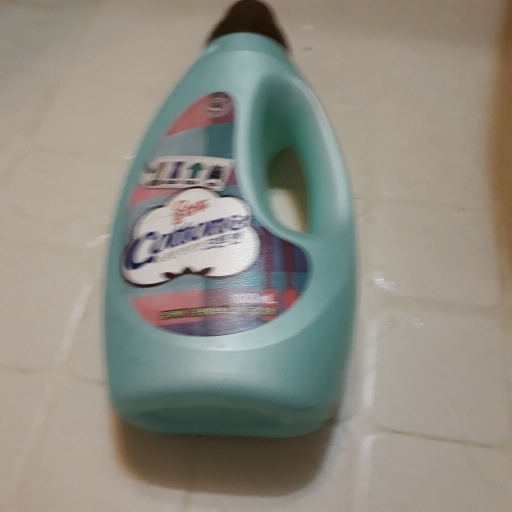Plastic_1: (105, 1, 361, 443)
